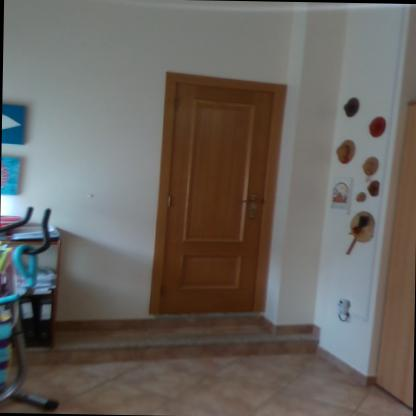closed: (149, 63, 293, 319)
